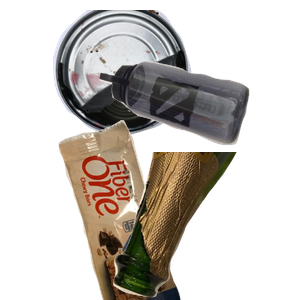glass: (111, 152, 300, 300)
metal: (50, 10, 262, 140)
plastic: (97, 59, 300, 197)
trash: (56, 120, 229, 300)
